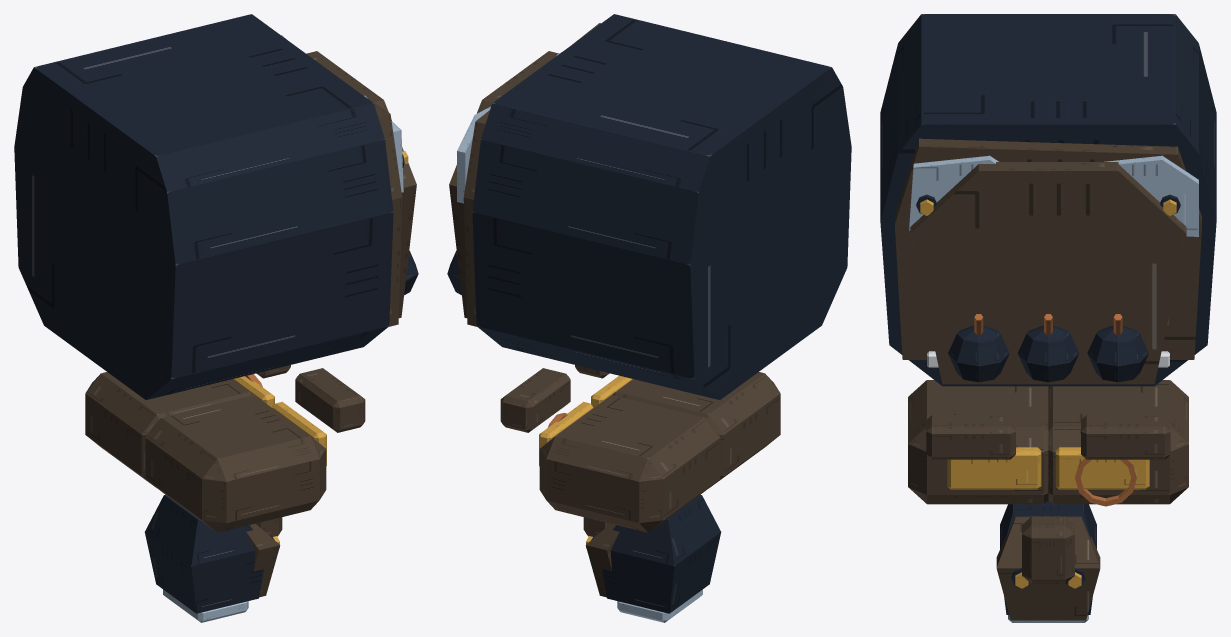
The model's file is bombardier.glb.
3 renders of one model, left to right at view 1: azimuth 30°, elevation 25°; view 2: azimuth 150°, elevation 25°; view 3: azimuth 270°, elevation 25°, orthographic. The views are drawn at different scales.
Visible parts, largest first — view 1: chest, arm_R, forearm_L, arm_L, hips; view 2: chest, arm_L, forearm_L, arm_R, hips; view 3: chest, arm_L, arm_R, hips, forearm_L.
Part boxes in pixels (box(x1,y1,x2,y2)): chest: box(14, 14, 418, 399); arm_R: box(145, 395, 326, 532); forearm_L: box(144, 494, 280, 622); arm_L: box(85, 372, 282, 536); hips: box(256, 365, 365, 432); chest: box(447, 14, 851, 399); arm_L: box(539, 395, 720, 536); forearm_L: box(585, 494, 721, 622); arm_R: box(591, 372, 780, 487); hips: box(500, 365, 609, 432); chest: box(880, 14, 1216, 386); arm_L: box(1022, 380, 1188, 584); arm_R: box(908, 380, 1048, 504); hips: box(926, 415, 1170, 459); forearm_L: box(996, 500, 1100, 622).
Bounding box in the file's own units: 0.3125 × 0.5405 × 0.304.
Materials: 6 (6 with a texture image).
